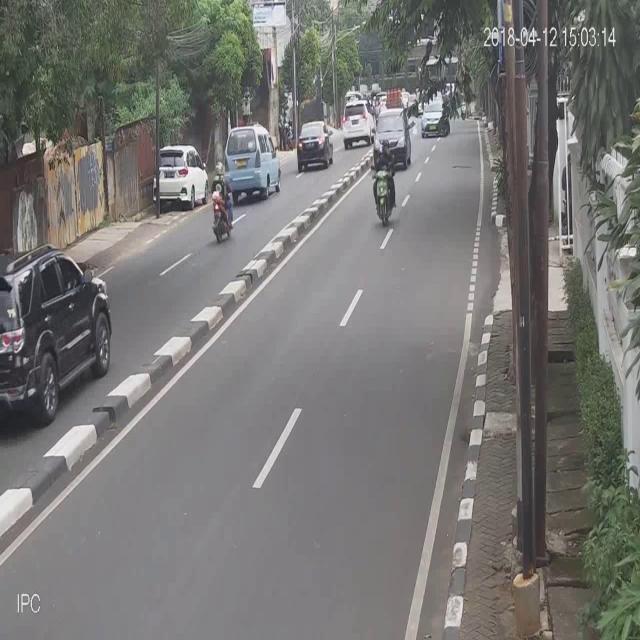bus: (208, 159, 238, 243), (373, 140, 396, 226)
motorcycle: (0, 238, 111, 428), (221, 122, 283, 197), (154, 140, 208, 210), (296, 118, 332, 174), (341, 98, 371, 148)
